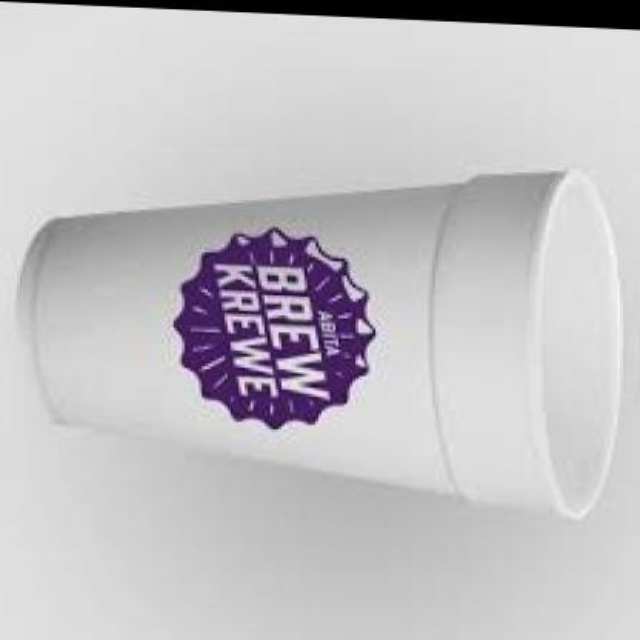trash: (20, 171, 622, 517)
